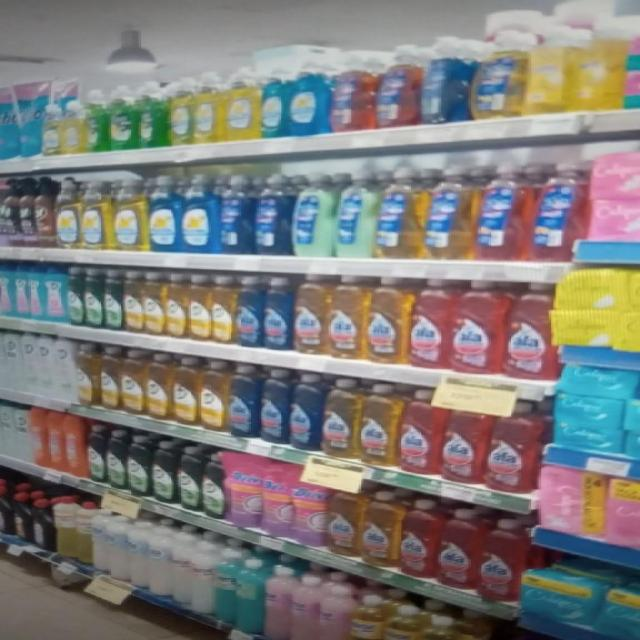ala_conc_amarillo: (368, 276, 408, 365), (360, 383, 398, 467), (328, 275, 365, 360), (323, 378, 358, 460), (362, 490, 398, 568), (294, 274, 326, 357), (328, 486, 360, 557)
ala_conc_azul: (290, 372, 321, 452), (260, 368, 289, 446), (264, 276, 293, 352), (229, 363, 258, 439), (237, 276, 262, 348)
ala_conc_rojo: (487, 402, 542, 493), (505, 280, 555, 380), (452, 280, 503, 376), (479, 517, 525, 602), (442, 398, 486, 484), (410, 278, 450, 370), (400, 390, 440, 476), (438, 508, 478, 590), (400, 499, 437, 579)
ala_crem_rosado: (318, 574, 348, 640), (264, 565, 289, 640), (291, 574, 317, 640)
cif_conc_bot_amarilla: (201, 360, 227, 432), (173, 356, 198, 426), (146, 353, 171, 420), (212, 275, 235, 346), (120, 349, 144, 415), (188, 274, 210, 344), (165, 273, 186, 339), (143, 272, 164, 336), (124, 270, 142, 333)
cif_conc_botella_verde: (104, 268, 122, 330), (84, 268, 102, 330), (67, 267, 83, 327)
magistral_con_amarillo: (113, 174, 146, 252), (225, 66, 259, 141), (81, 178, 110, 251), (168, 75, 194, 146), (55, 177, 79, 250), (62, 80, 85, 154), (42, 78, 62, 156)
magistral_con_azul: (289, 54, 329, 138), (182, 170, 215, 254), (148, 173, 180, 253), (261, 61, 287, 139), (34, 176, 53, 247)
zorro: (476, 164, 526, 262), (529, 162, 578, 262), (474, 24, 524, 119), (426, 166, 472, 261), (378, 166, 423, 260), (336, 170, 376, 259), (293, 172, 334, 258), (254, 172, 290, 256)
